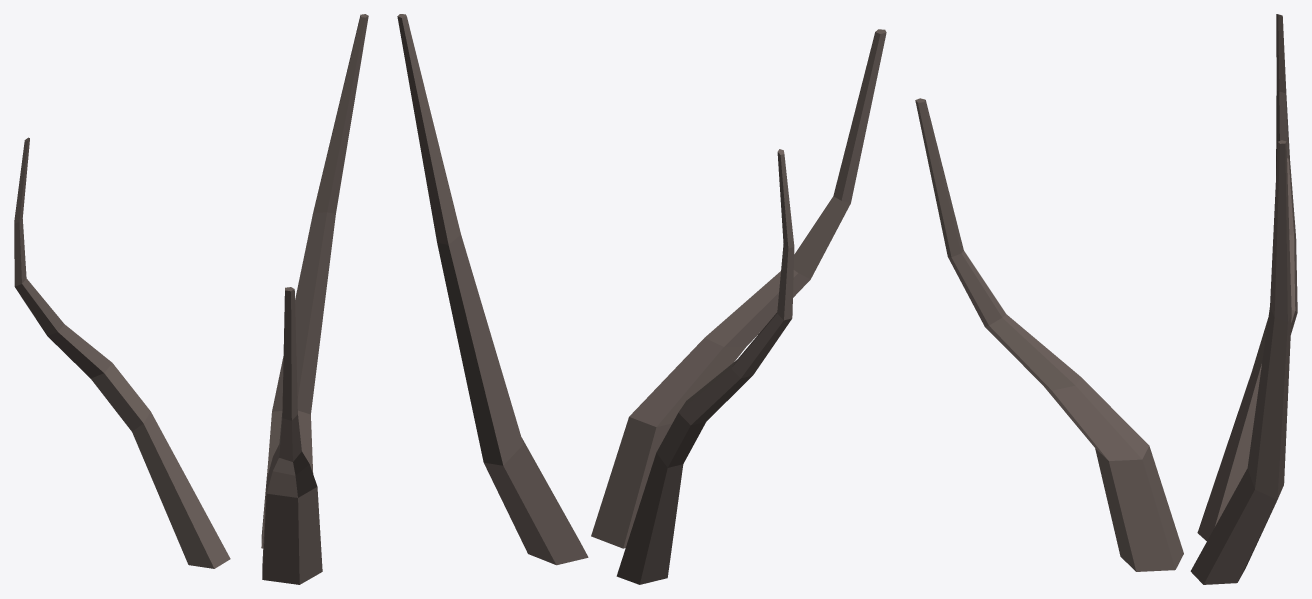
Rendered from RAS_Plant02.fbx.
3 renders of one model, left to right at view 1: azimuth 30°, elevation 25°; view 2: azimuth 150°, elevation 25°; view 3: azimuth 270°, elevation 25°, orthographic. The views are drawn at different scales.
Visible parts, largest first — view 1: RAS_Plant02; view 2: RAS_Plant02; view 3: RAS_Plant02.
Boxes of the visible parts, box(x1,y1,x2,y2) form: RAS_Plant02: box(14, 14, 368, 584); RAS_Plant02: box(397, 14, 886, 584); RAS_Plant02: box(915, 14, 1297, 584).
Bounding box in the file's own units: 150 × 193 × 138.
Materials: 1 (1 with a texture image).
